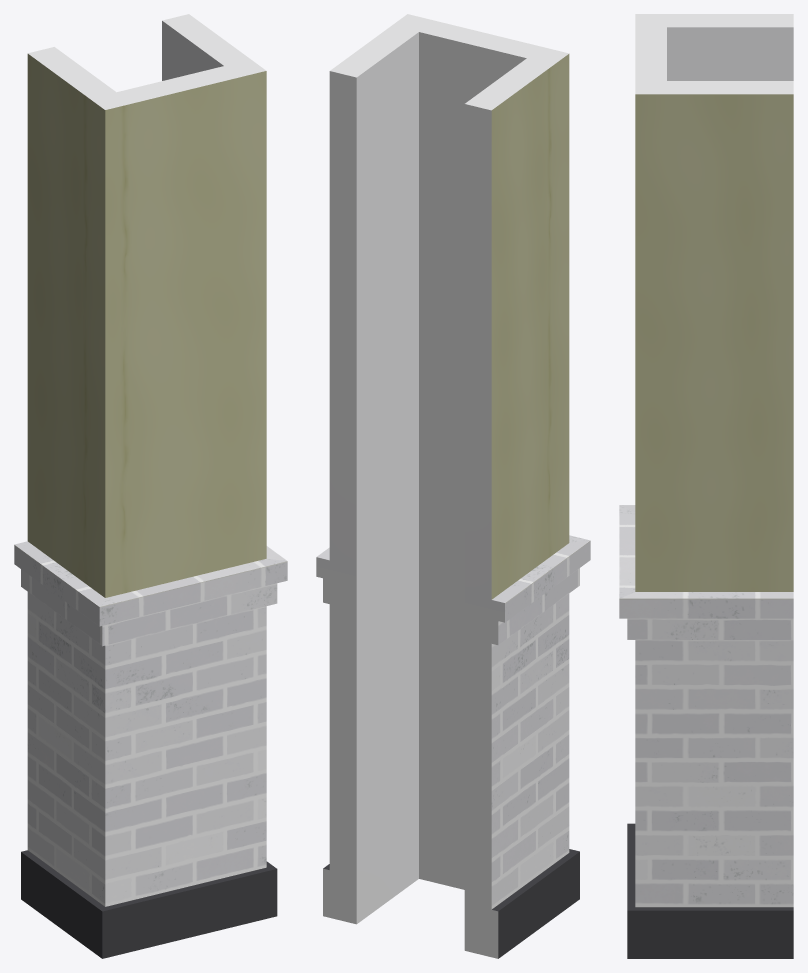
The model's file is SM_Buildings_Column_2x3_01.fbx.
The picture shows the model from 3 angles, left to right: view 1: azimuth 30°, elevation 25°; view 2: azimuth 150°, elevation 25°; view 3: azimuth 270°, elevation 25°; orthographic projection. The views are drawn at different scales.
Parts seen in each view (by area): view 1: SM_Buildings_Column_2x3_01; view 2: SM_Buildings_Column_2x3_01; view 3: SM_Buildings_Column_2x3_01.
Boxes of the visible parts, x1,y1,x2,y2 form: SM_Buildings_Column_2x3_01: (14, 14, 287, 958); SM_Buildings_Column_2x3_01: (316, 14, 590, 958); SM_Buildings_Column_2x3_01: (619, 14, 793, 958).
Bounding box in the file's own units: 70 × 300 × 55.
Materials: 1 (1 with a texture image).
